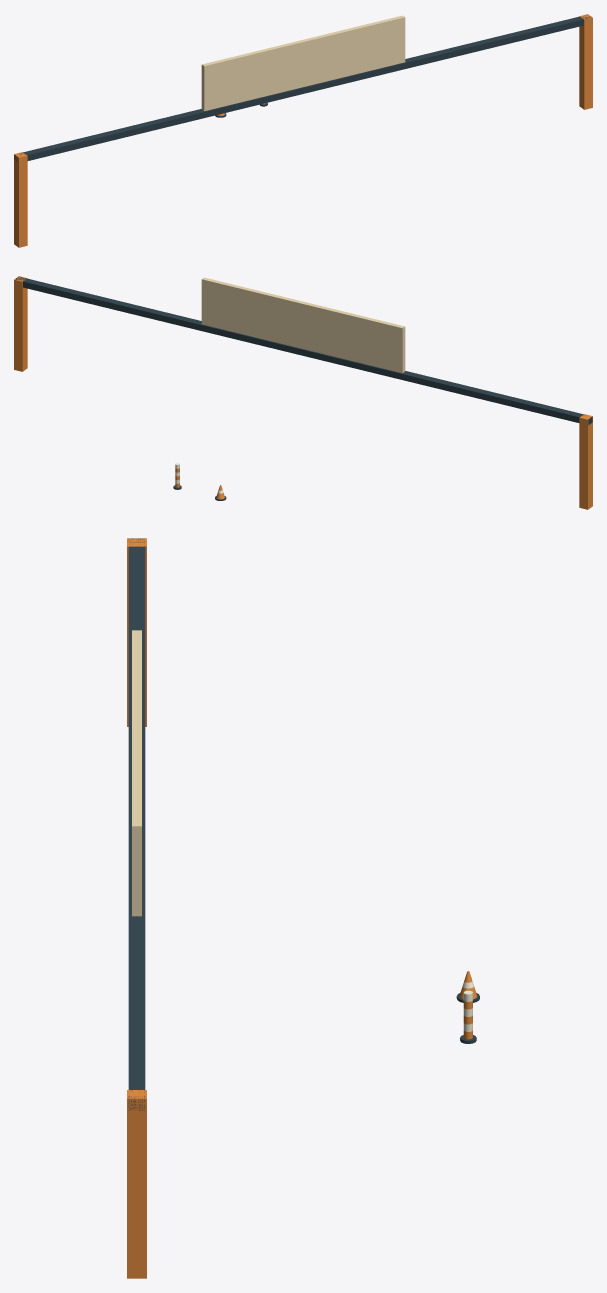
File: challenge-kit.glb
3 renders of one model, top to bottom at view 1: azimuth 30°, elevation 25°; view 2: azimuth 150°, elevation 25°; view 3: azimuth 270°, elevation 25°, orthographic. The views are drawn at different scales.
Parts seen in each view (by area): view 1: BlankSignBoard, Crossbeam, ArchPost (×2); view 2: BlankSignBoard, Crossbeam, ArchPost (×2); view 3: Crossbeam, ArchPost, BlankSignBoard.
Boxes of the visible parts, left/top/right/bottom form: BlankSignBoard: left=201, top=15, right=405, bottom=111; Crossbeam: left=14, top=15, right=591, bottom=161; ArchPost (×2): left=14, top=14, right=592, bottom=247; BlankSignBoard: left=201, top=277, right=405, bottom=373; Crossbeam: left=15, top=276, right=592, bottom=425; ArchPost (×2): left=14, top=276, right=592, bottom=509; Crossbeam: left=128, top=538, right=145, bottom=1110; ArchPost: left=127, top=1090, right=146, bottom=1278; BlankSignBoard: left=132, top=630, right=141, bottom=916.
Size of the model in its own units: 40 by 9 by 10.65.
